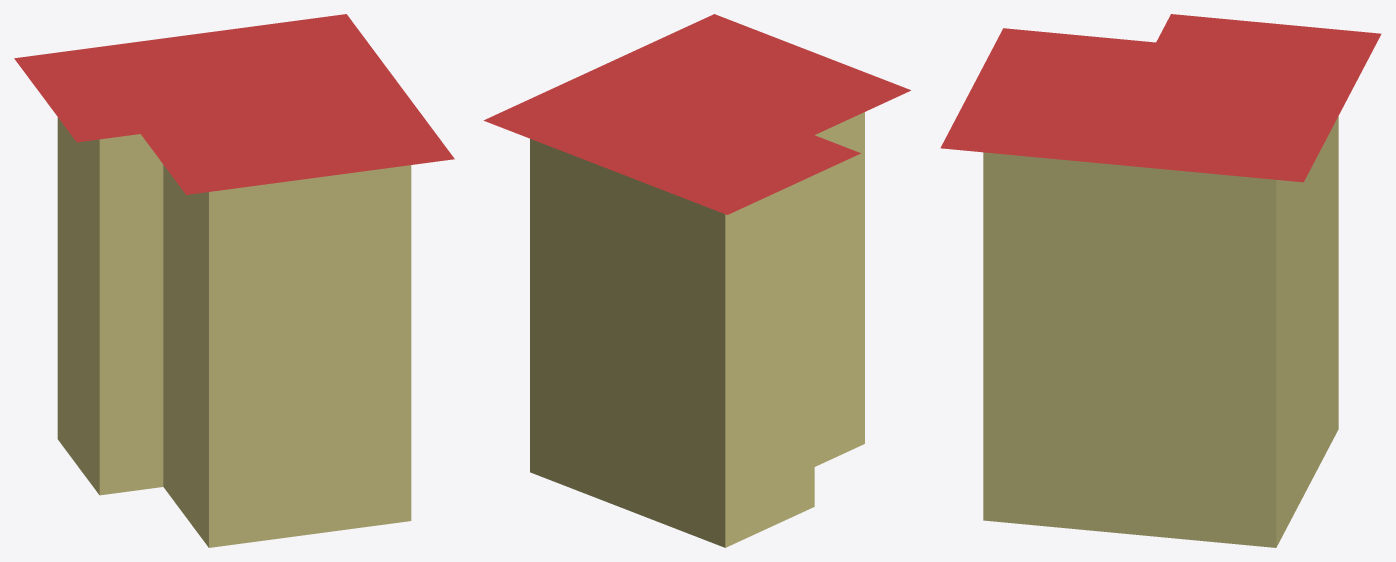
3 views of the same model, side by side, from view 1: azimuth 30°, elevation 25°; view 2: azimuth 150°, elevation 25°; view 3: azimuth 270°, elevation 25° (orthographic). The views are drawn at different scales.
Bounding box in the file's own units: 5.53 × 6.13 × 5.88.
